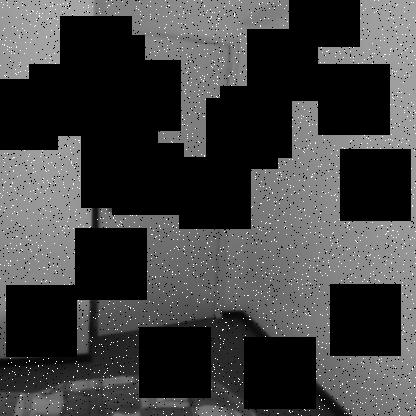Porte: (86, 23, 242, 336)
